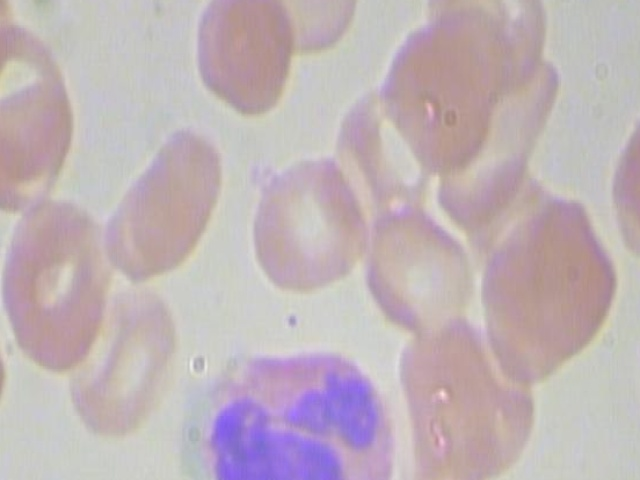RBC: (375, 6, 507, 183), (97, 117, 228, 290), (0, 194, 118, 379), (65, 260, 185, 440), (501, 191, 621, 371), (247, 135, 362, 302), (360, 191, 476, 338), (0, 6, 78, 187), (193, 0, 300, 113), (601, 92, 640, 269), (257, 0, 365, 55)
WBC: (185, 313, 406, 480)
